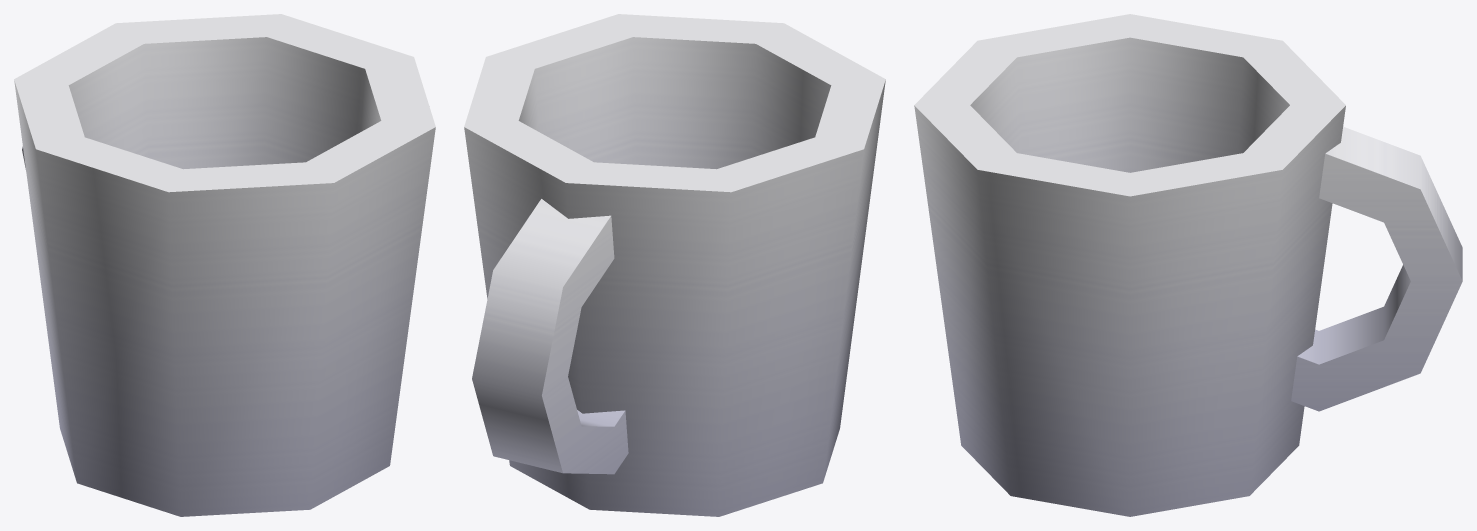
File: cup.obj
3 renders of one model, left to right at view 1: azimuth 30°, elevation 25°; view 2: azimuth 150°, elevation 25°; view 3: azimuth 270°, elevation 25°, orthographic.
Visible parts, largest first — view 1: cup; view 2: cup; view 3: cup.
Part boxes in pixels (box(x1,y1,x2,y2)): cup: box(14, 14, 435, 516); cup: box(464, 14, 885, 516); cup: box(914, 14, 1462, 516).
Size of the model in its own units: 0.23 by 0.2 by 0.2921.
Materials: 1 (1 with a texture image).
